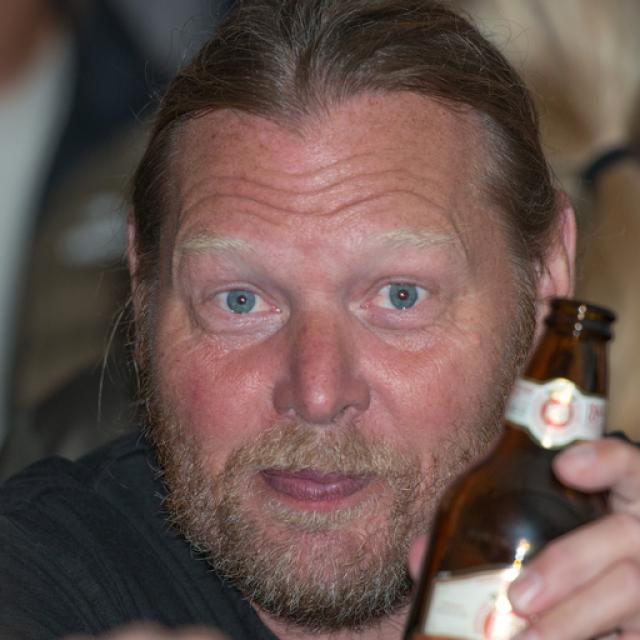Wrinkle: (180, 183, 467, 257), (170, 162, 451, 214), (272, 149, 376, 176)
